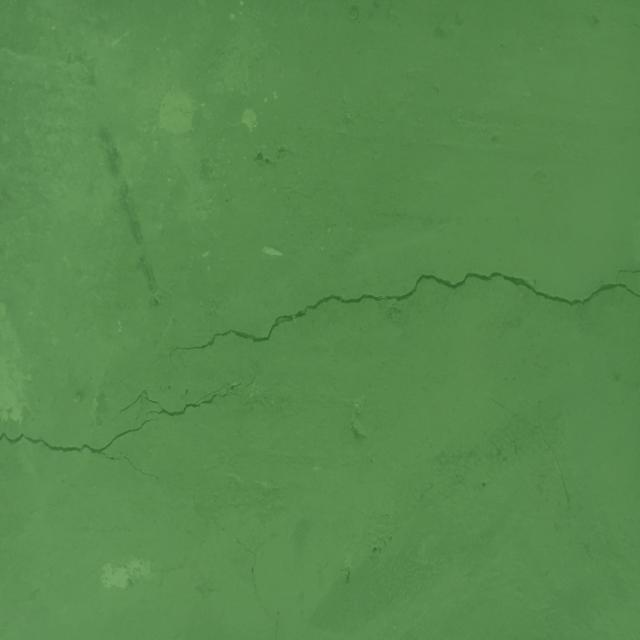crack: (0, 372, 278, 640), (169, 269, 640, 359)
